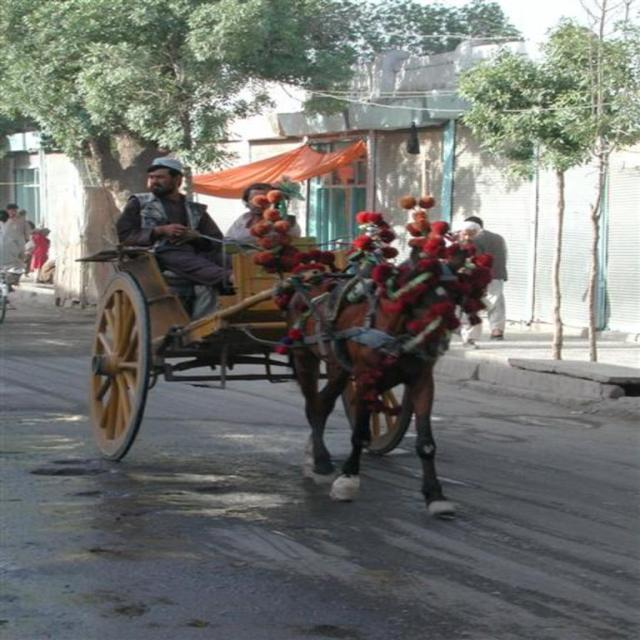Person: (0, 157, 507, 349)
